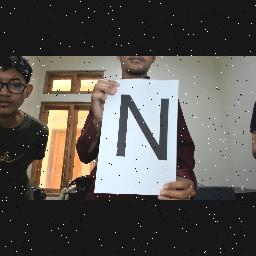n: (109, 90, 175, 164)
